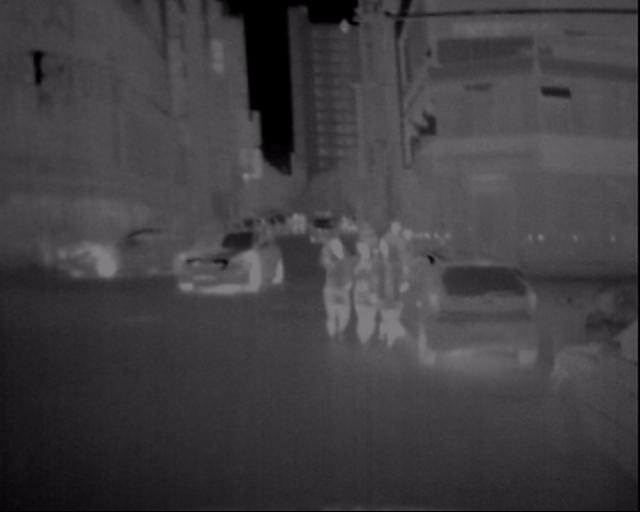person: (315, 216, 364, 351), (370, 219, 418, 356), (344, 218, 385, 352)
